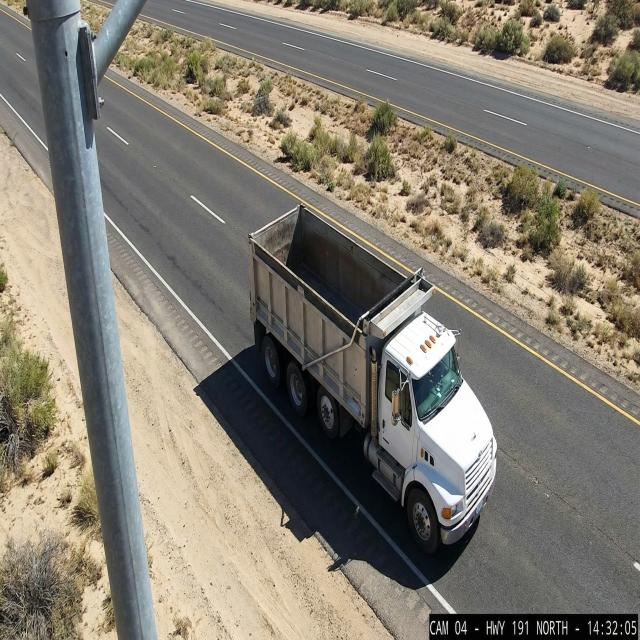Box: (246, 202, 432, 342)
Truck: (238, 192, 501, 548)
